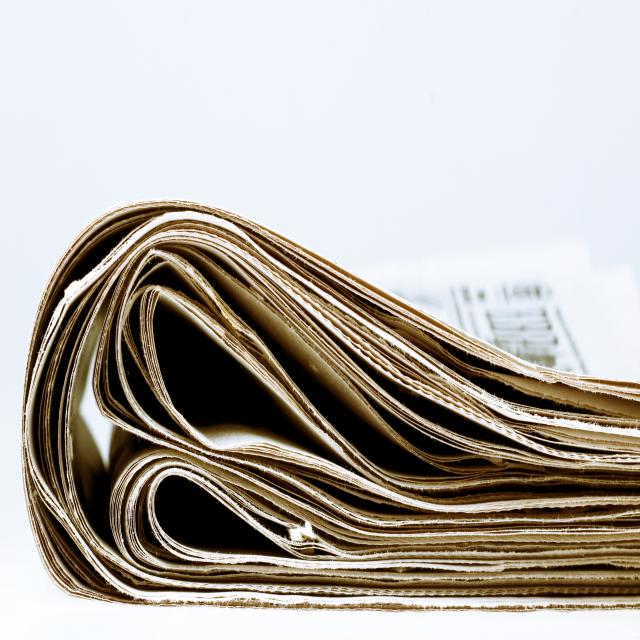paper: (31, 208, 435, 606)
